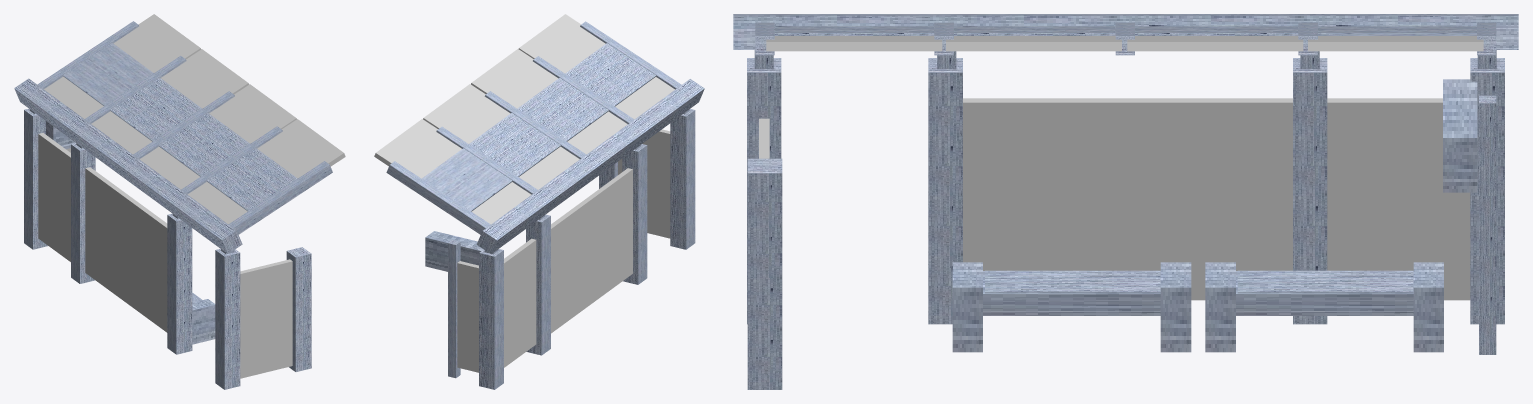
The model's file is Paradas.fbx.
3 views of the same model, side by side, from view 1: azimuth 30°, elevation 25°; view 2: azimuth 150°, elevation 25°; view 3: azimuth 270°, elevation 25° (orthographic). The views are drawn at different scales.
Visible parts, largest first — view 1: 큐브.006, 큐브.008, 큐브.002, 큐브.016, 큐브.014, 큐브.015, 큐브.017, 큐브.018, 큐브, 큐브.003, 큐브.035, 큐브.034 (+12 smaller); view 2: 큐브.006, 큐브.008, 큐브.016, 큐브.015, 큐브.017, 큐브.014, 큐브.018, 큐브, 큐브.005, 큐브.035, 큐브.034, 큐브.033 (+12 smaller); view 3: 큐브.006, 큐브.018, 큐브.008, 큐브.003, 큐브.001, 큐브.004, 큐브.007, 큐브.005, 큐브.026, 큐브.022, 큐브.025, 큐브.021 (+14 smaller).
Boxes of the visible parts, bbox=[...] form: 큐브.006: bbox=[85, 167, 167, 332]; 큐브.008: bbox=[14, 78, 242, 253]; 큐브.002: bbox=[240, 259, 292, 378]; 큐브.016: bbox=[91, 49, 248, 154]; 큐브.014: bbox=[188, 119, 345, 224]; 큐브.015: bbox=[140, 84, 296, 189]; 큐브.017: bbox=[44, 14, 201, 118]; 큐브.018: bbox=[38, 133, 70, 261]; 큐브: bbox=[215, 249, 240, 389]; 큐브.003: bbox=[167, 213, 192, 354]; 큐브.035: bbox=[110, 77, 201, 141]; 큐브.034: bbox=[158, 113, 249, 176]; 큐브.006: bbox=[551, 168, 632, 333]; 큐브.008: bbox=[477, 79, 704, 254]; 큐브.016: bbox=[423, 84, 579, 189]; 큐브.015: bbox=[471, 49, 627, 154]; 큐브.017: bbox=[374, 119, 531, 224]; 큐브.014: bbox=[518, 14, 674, 119]; 큐브.018: bbox=[504, 238, 536, 367]; 큐브: bbox=[670, 109, 695, 249]; 큐브.005: bbox=[479, 249, 503, 389]; 큐브.035: bbox=[469, 113, 560, 176]; 큐브.034: bbox=[517, 77, 608, 141]; 큐브.033: bbox=[565, 43, 656, 106]; 큐브.006: bbox=[963, 98, 1292, 300]; 큐브.018: bbox=[1327, 98, 1470, 300]; 큐브.008: bbox=[733, 14, 1518, 49]; 큐브.003: bbox=[928, 58, 962, 324]; 큐브.001: bbox=[747, 158, 782, 389]; 큐브.004: bbox=[1293, 58, 1327, 324]; 큐브.007: bbox=[1479, 95, 1496, 354]; 큐브.005: bbox=[1470, 58, 1504, 324]; 큐브.026: bbox=[1237, 270, 1413, 293]; 큐브.022: bbox=[985, 270, 1160, 293]; 큐브.025: bbox=[1236, 271, 1413, 315]; 큐브.021: bbox=[983, 271, 1160, 315].
Bounding box in the file's own units: 102 × 149 × 276.
4 materials, 3 textured.
